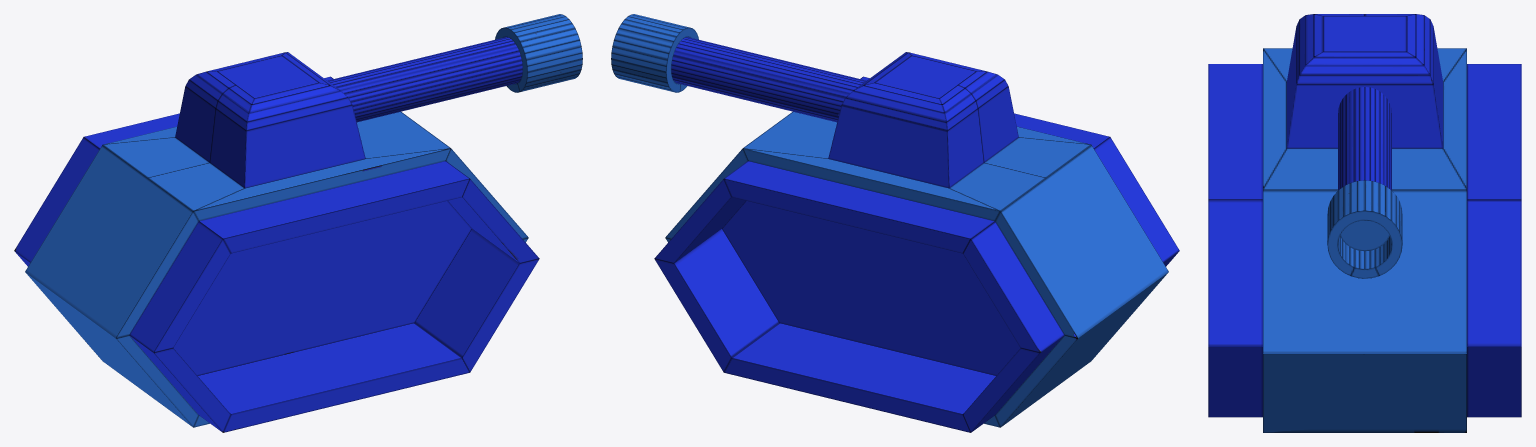
The model's file is Tank.fbx.
3 renders of one model, left to right at view 1: azimuth 30°, elevation 25°; view 2: azimuth 150°, elevation 25°; view 3: azimuth 270°, elevation 25°, orthographic. The views are drawn at different scales.
Parts seen in each view (by area): view 1: Cube, Cube.001, Cylinder; view 2: Cube, Cube.001, Cylinder; view 3: Cube, Cube.001, Cylinder.
Part boxes in pixels (x1=…): Cube: x1=14, y1=76, x2=539, y2=432; Cube.001: x1=175, y1=37, x2=522, y2=188; Cylinder: x1=495, y1=14, x2=582, y2=92; Cube: x1=654, y1=76, x2=1179, y2=432; Cube.001: x1=671, y1=37, x2=1018, y2=188; Cylinder: x1=611, y1=14, x2=698, y2=92; Cube: x1=1208, y1=48, x2=1521, y2=432; Cube.001: x1=1286, y1=14, x2=1443, y2=251; Cylinder: x1=1327, y1=180, x2=1402, y2=278.
Bounding box in the file's own units: 479 × 266 × 233.
Materials: 1 (1 with a texture image).
